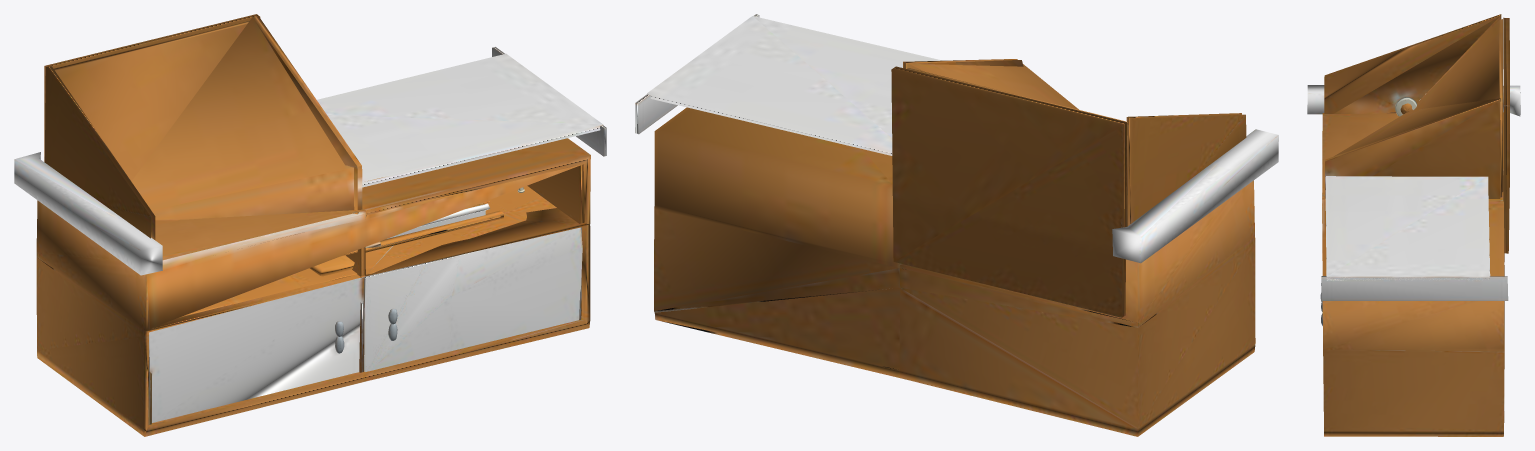
Rendered from prep.stone.glb.
The picture shows the model from 3 angles, left to right: view 1: azimuth 30°, elevation 25°; view 2: azimuth 150°, elevation 25°; view 3: azimuth 270°, elevation 25°; orthographic projection. The views are drawn at different scales.
Parts seen in each view (by area): view 1: geometry_0; view 2: geometry_0; view 3: geometry_0.
Part boxes in pixels (bbox=[...]): geometry_0: bbox=[14, 14, 606, 436]; geometry_0: bbox=[635, 14, 1278, 436]; geometry_0: bbox=[1307, 14, 1520, 436].
Bounding box in the file's own units: 1 × 0.5873 × 0.4655.
1 material, 1 textured.
